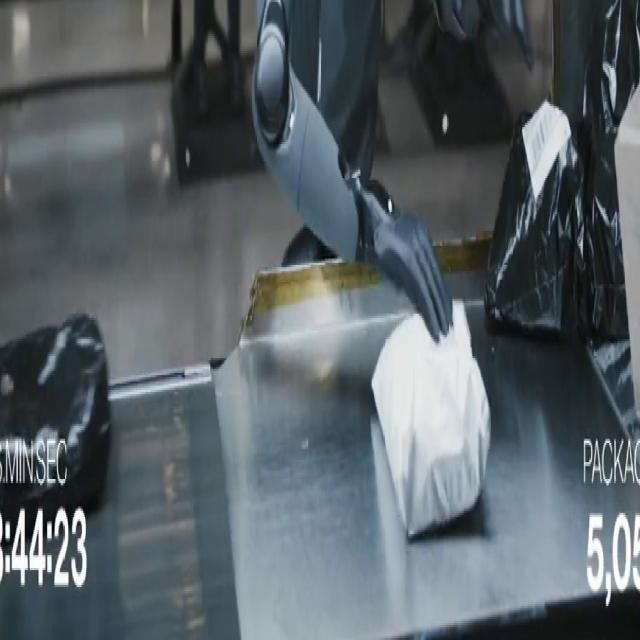package: (372, 301, 490, 538), (0, 316, 110, 529), (486, 102, 583, 334), (584, 0, 639, 341), (614, 287, 639, 438)
